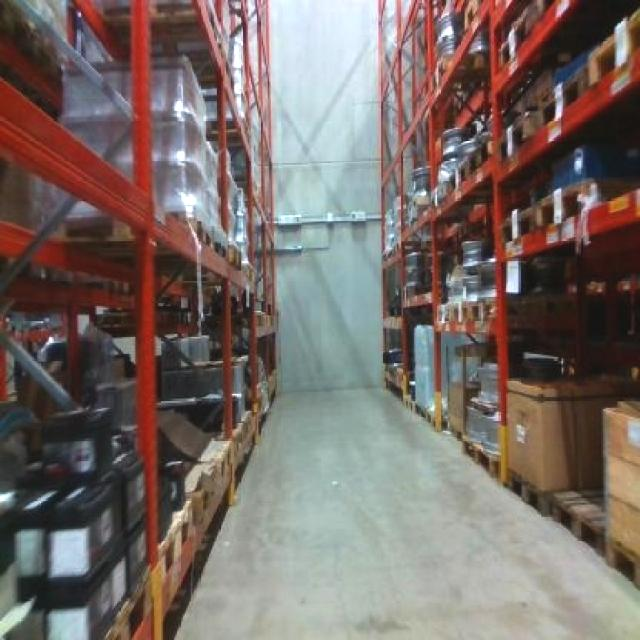pallets: (602, 398, 637, 583)
